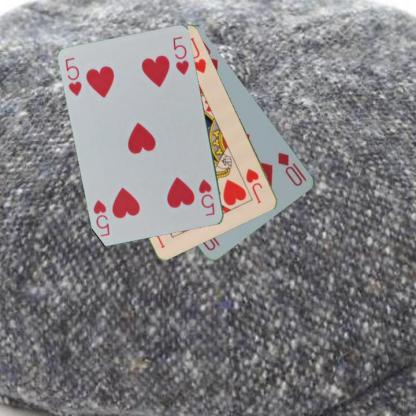10d: (275, 150, 309, 188)
5h: (63, 55, 84, 97), (197, 177, 216, 218)
Jh: (243, 166, 264, 205)
